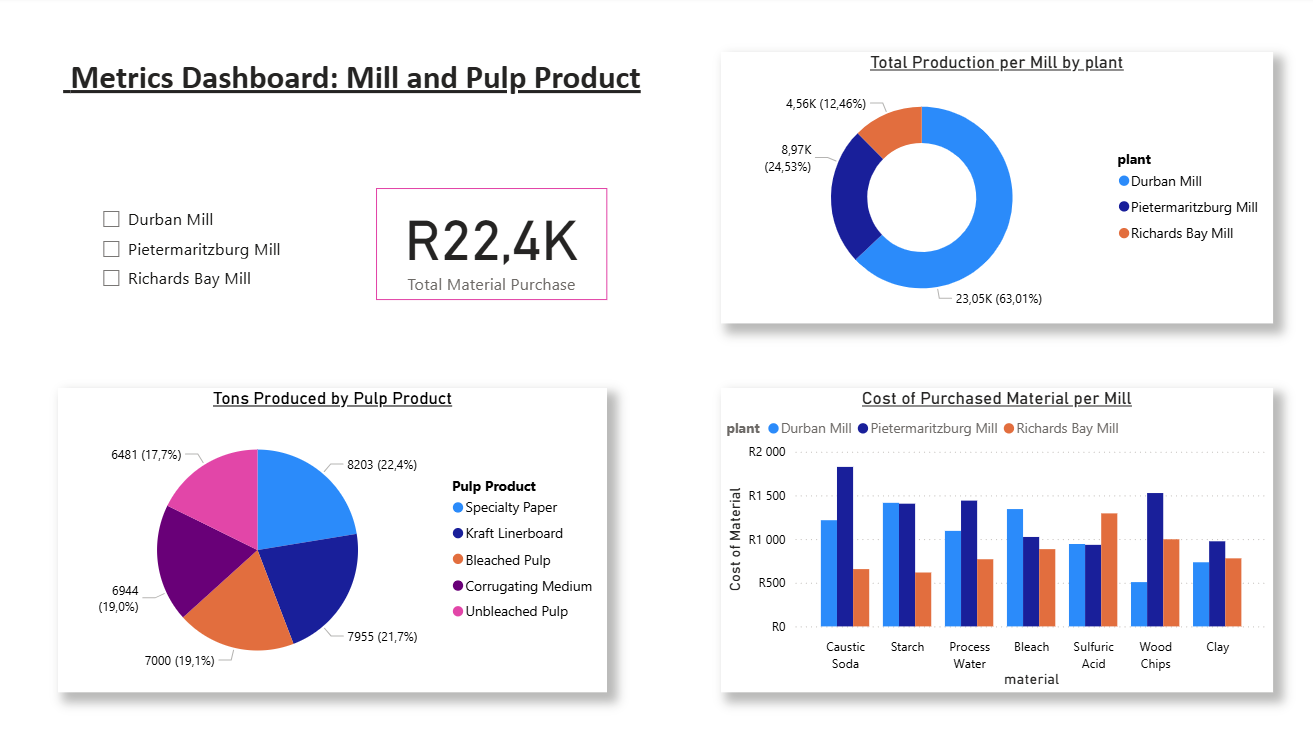

The page's visual inventory and layout, read from the dashboard file:
{"tool":"powerbi","page":{"name":"Page 2","canvas":[1280,720],"ordinal":1},"visuals":[{"type":"clusteredColumnChart","title":"Cost of Purchased Material per Mill","fields":{"Series":["analytics purchase_by_product_and_plant.plant"],"Y":["Sum(analytics purchase_by_product_and_plant.total_cost)"],"Category":["analytics purchase_by_product_and_plant.material"]},"box":[701.9,380.7,536.5,296.2],"z":0},{"type":"donutChart","fields":{"Y":["Sum(analytics production_by_plant.total_production)"],"Category":["analytics production_by_plant.plant"]},"box":[701.9,53.5,536.5,264.1],"z":1},{"type":"pieChart","title":"Tons Produced by Pulp Product","fields":{"Category":["analytics vw_production_summary.product"],"Y":["Sum(analytics vw_production_summary.total_production_tons)"]},"box":[57.1,380.7,534.1,296.2],"z":2},{"type":"textbox","box":[57.1,53.5,632.9,98.7],"z":3},{"type":"card","fields":{"Values":["Sum(analytics purchase_by_product_and_plant.total_cost)"]},"box":[366.4,185.6,224.8,109.4],"z":4},{"type":"slicer","fields":{"Values":["analytics purchase_by_product_and_plant.plant"]},"box":[88,195.1,236.7,99.9],"z":5}]}

Visuals, with their boxes in screenshot pixels (x1, y1, x2, y2), scaled from the page's 1280x720 canvas onto the 1313x732 screenshot:
"Cost of Purchased Material per Mill" clusteredColumnChart: bbox=[720, 387, 1270, 688]
donutChart - Sum(analytics production_by_plant.total_production) x analytics production_by_plant.plant: bbox=[720, 54, 1270, 323]
"Tons Produced by Pulp Product" pieChart: bbox=[59, 387, 606, 688]
textbox: bbox=[59, 54, 708, 155]
card - Sum(analytics purchase_by_product_and_plant.total_cost): bbox=[376, 189, 606, 300]
slicer - analytics purchase_by_product_and_plant.plant: bbox=[90, 198, 333, 300]
